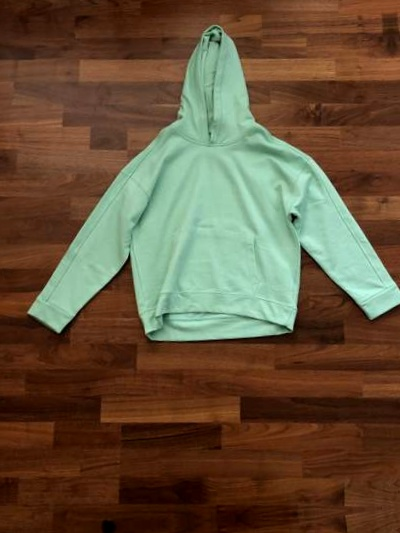Hoodie: (3, 13, 400, 361)
